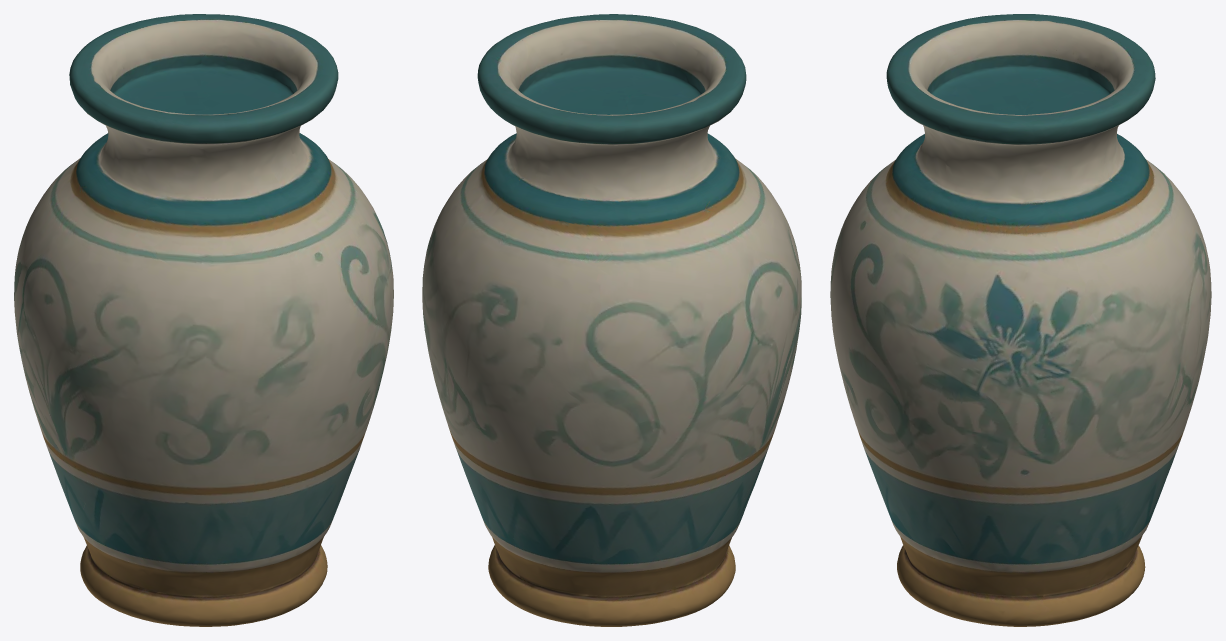
File: florero.glb
3 views of the same model, side by side, from view 1: azimuth 30°, elevation 25°; view 2: azimuth 150°, elevation 25°; view 3: azimuth 270°, elevation 25° (orthographic).
Visible parts, largest first — view 1: tripo_node_930df25a-91c2-4bb6-bad6-7b61f41b5497; view 2: tripo_node_930df25a-91c2-4bb6-bad6-7b61f41b5497; view 3: tripo_node_930df25a-91c2-4bb6-bad6-7b61f41b5497.
Boxes of the visible parts, x1,y1,x2,y2 form: tripo_node_930df25a-91c2-4bb6-bad6-7b61f41b5497: (14, 14, 393, 626); tripo_node_930df25a-91c2-4bb6-bad6-7b61f41b5497: (422, 14, 801, 626); tripo_node_930df25a-91c2-4bb6-bad6-7b61f41b5497: (830, 14, 1211, 626).
Size of the model in its own units: 0.6755 by 1 by 0.6758.
1 material, 1 textured.
